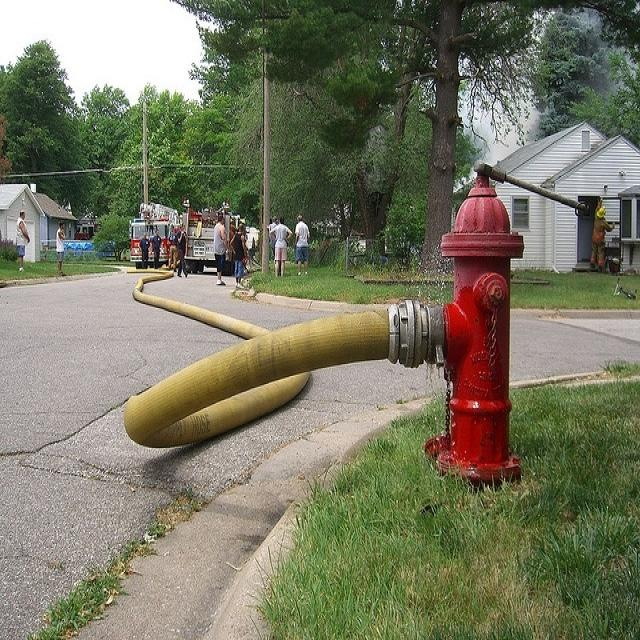fire_hydrant: (369, 144, 575, 529)
